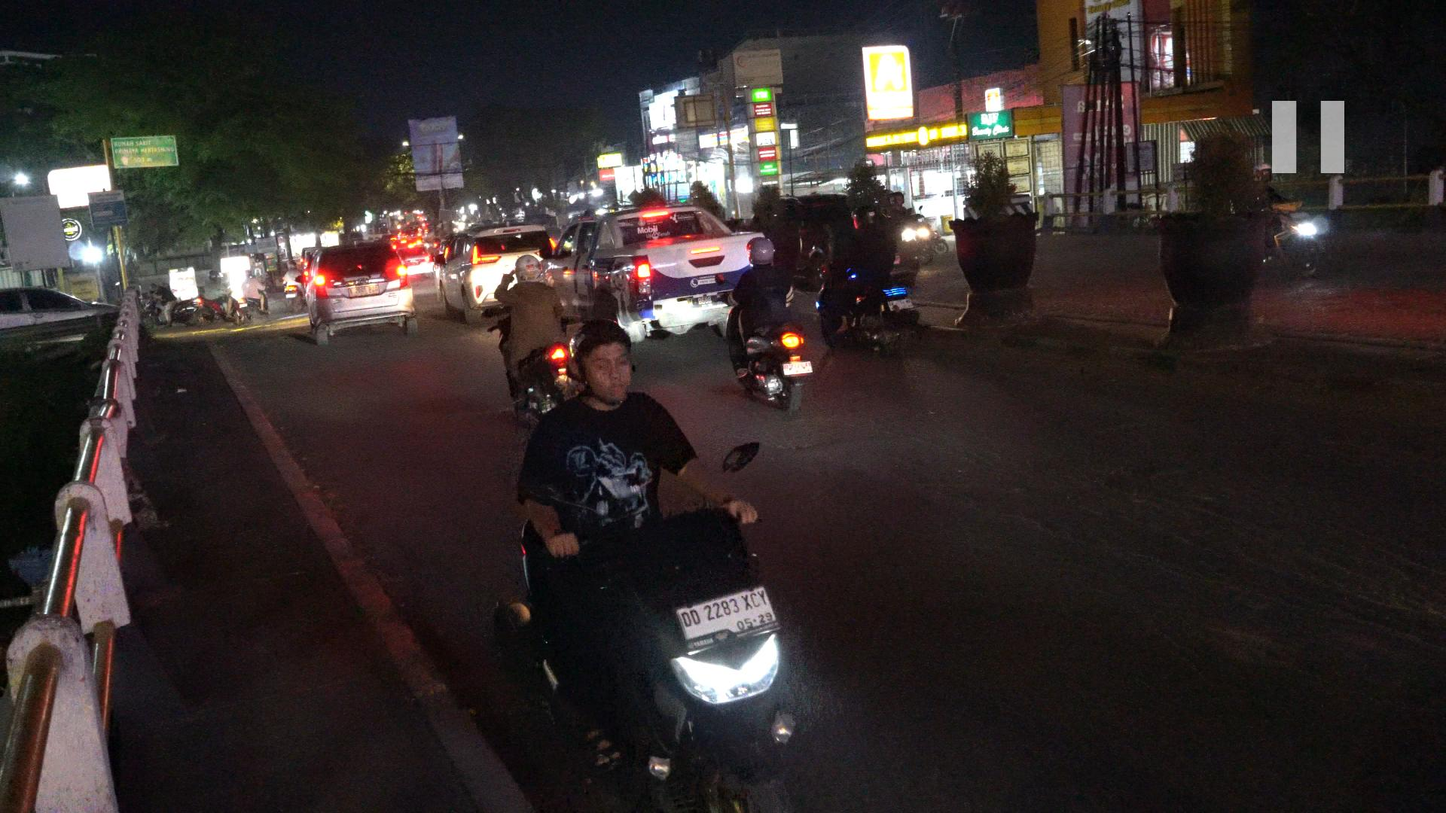number-plate: (672, 584, 780, 659)
